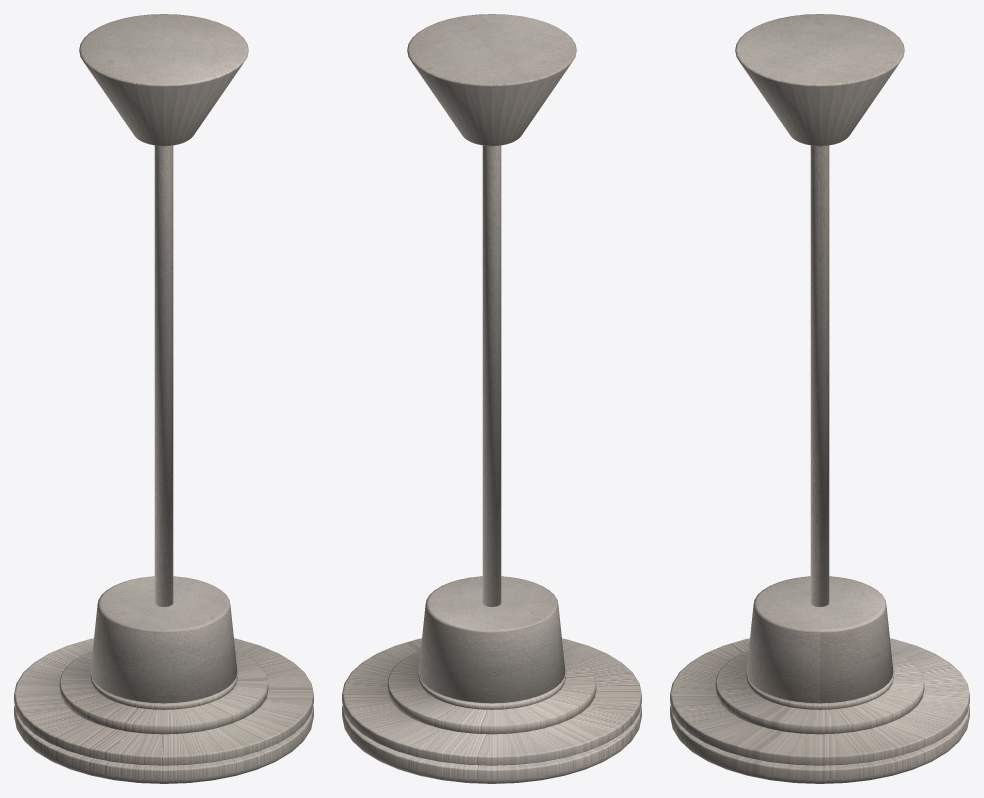
3 renders of one model, left to right at view 1: azimuth 30°, elevation 25°; view 2: azimuth 150°, elevation 25°; view 3: azimuth 270°, elevation 25°, orthographic.
Visible parts, largest first — view 1: Simple_Ceiling_Fan_body, Simple_Ceiling_Fan_cable; view 2: Simple_Ceiling_Fan_body, Simple_Ceiling_Fan_cable; view 3: Simple_Ceiling_Fan_body, Simple_Ceiling_Fan_cable.
Part boxes in pixels (<box>): Simple_Ceiling_Fan_body: <box>14,576,313,783</box>; Simple_Ceiling_Fan_cable: <box>79,14,248,606</box>; Simple_Ceiling_Fan_body: <box>342,576,641,783</box>; Simple_Ceiling_Fan_cable: <box>407,14,576,606</box>; Simple_Ceiling_Fan_body: <box>670,576,969,783</box>; Simple_Ceiling_Fan_cable: <box>735,14,904,606</box>.
Bounding box in the file's own units: 1.31 × 3.26 × 1.31.
Materials: 1 (1 with a texture image).
